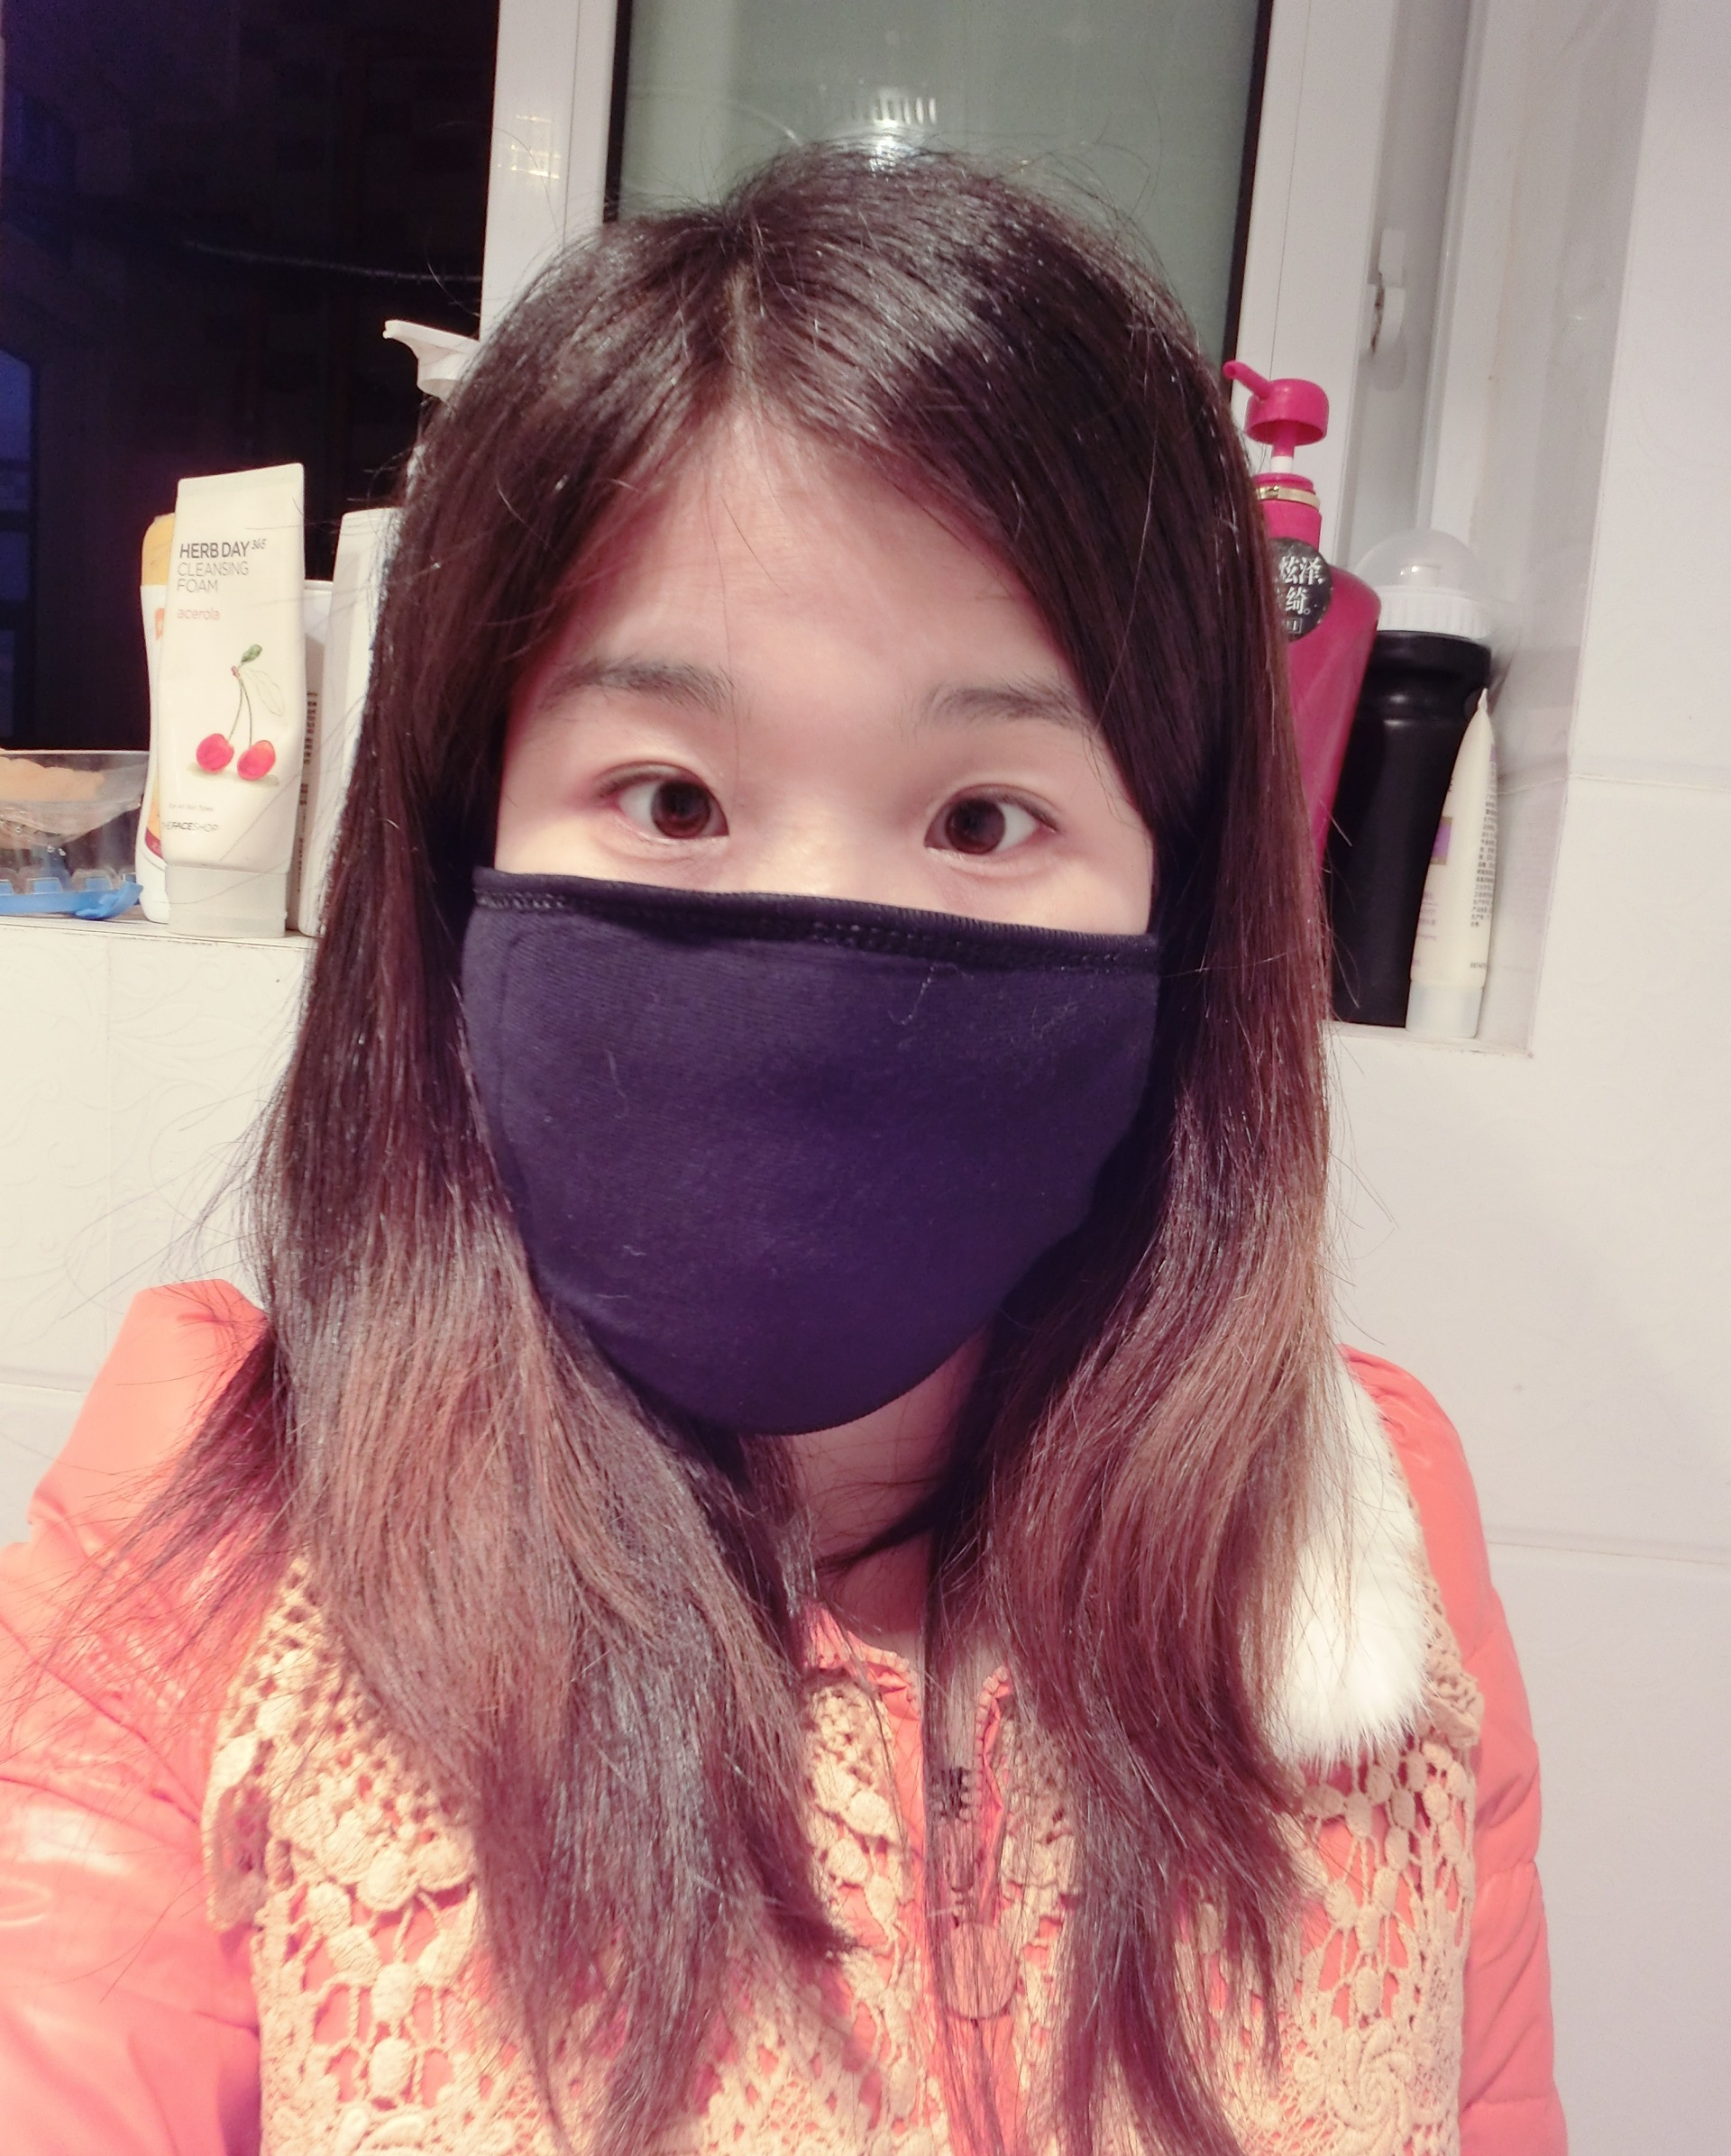face_mask: (458, 418, 1148, 1388)
